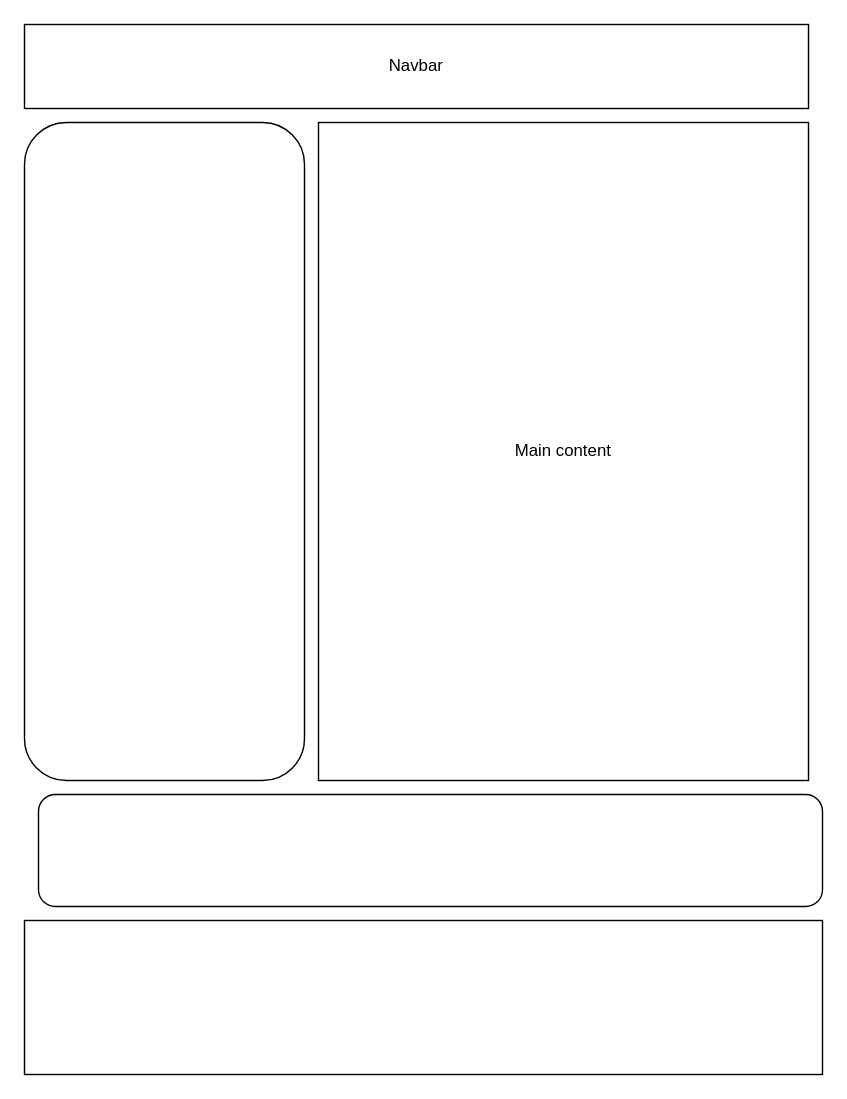
The diagram is 847 pixels wide and 1099 high, and some of its shapes have lost their labels. The shapes that lost their labels are listed below. From the top down, each one's centre as x and y in pixels, then its label:
(x=163, y=450): Adgestable side bar and suggested Musics
(x=429, y=849): Music Playing Controles
